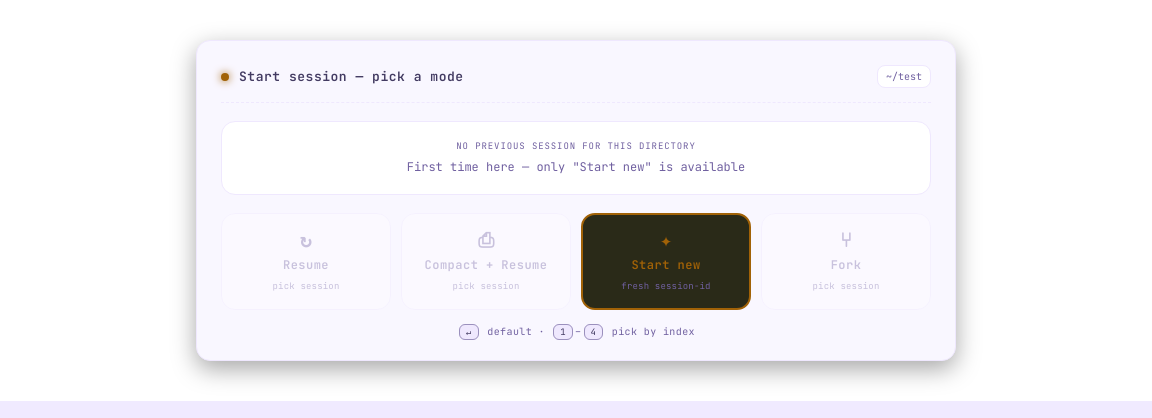
Test: post-resume ctx % wiring › historical SUBAGENT assistant.usage is ignored (does NOT poison ctx %)
Expected: the text "Start new" is shown, [631,256,700,274]
Click the button "✦ Start new fresh session-id" at (666, 261), box [581,212,751,310]
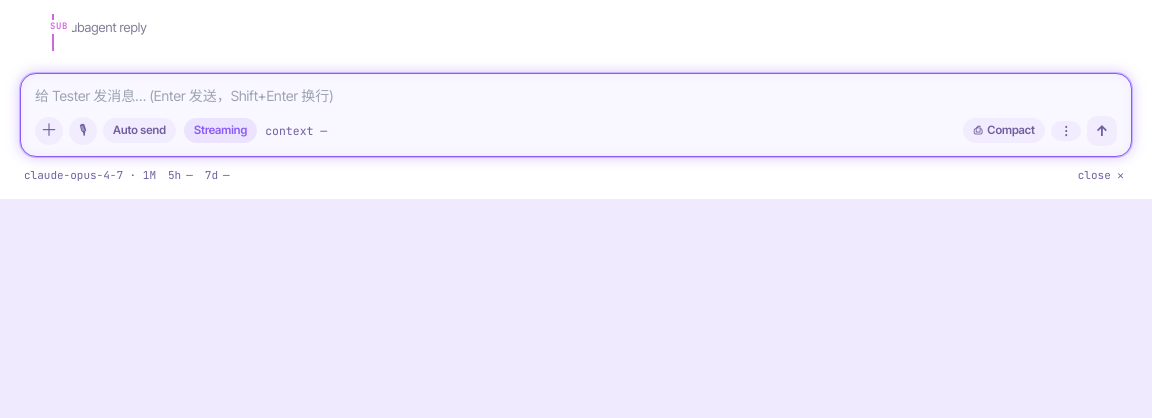
Now the text "context —" is shown, box [265,122,327,139]
